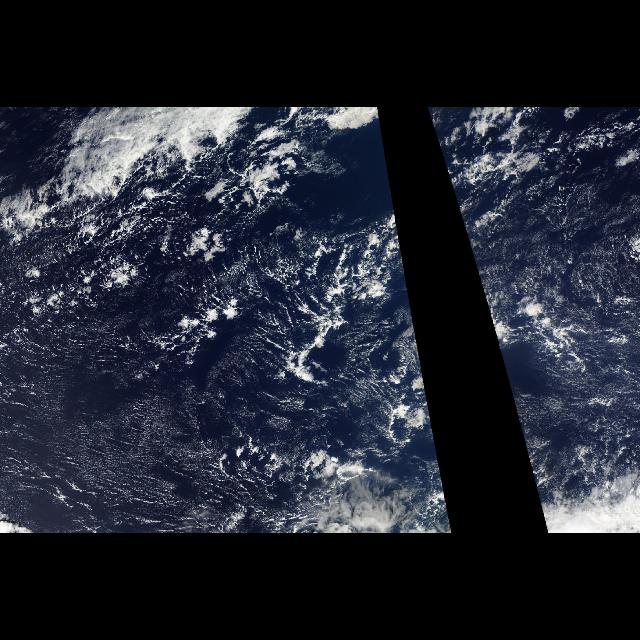Gravel: (2, 114, 452, 532), (428, 114, 638, 532)
Sugar: (0, 326, 224, 534)
